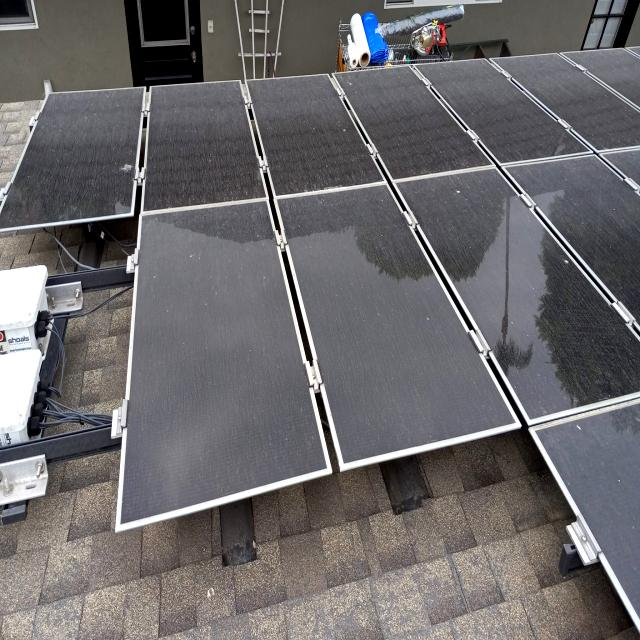dust: (141, 268, 299, 482), (476, 253, 640, 397), (158, 86, 361, 192), (312, 271, 433, 436), (383, 148, 640, 224), (390, 73, 640, 148), (52, 95, 134, 214), (562, 414, 640, 514), (281, 196, 398, 262), (150, 211, 270, 262)
